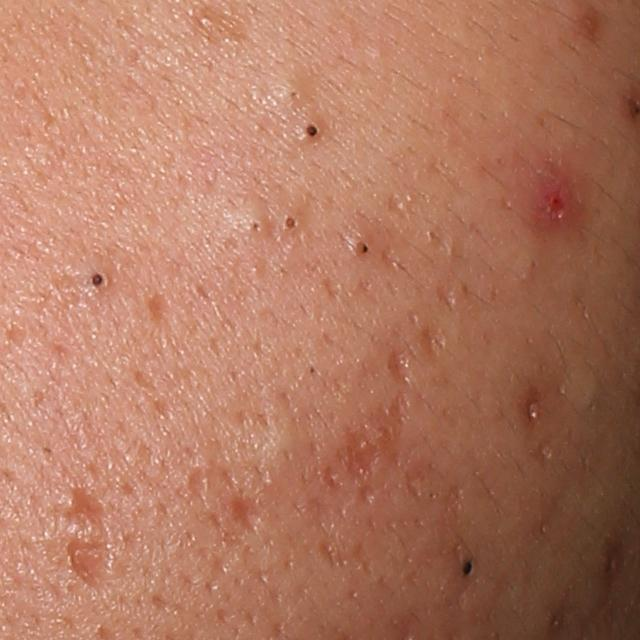atrophic_scar: (62, 483, 117, 591), (305, 494, 373, 581), (222, 384, 284, 455), (204, 514, 250, 589), (373, 389, 406, 469), (337, 421, 375, 485), (226, 490, 271, 539), (388, 341, 418, 390), (419, 319, 447, 362), (433, 277, 462, 318), (187, 467, 210, 515), (316, 465, 345, 494), (521, 385, 542, 425), (382, 240, 403, 276), (355, 483, 378, 505)
comedo: (285, 82, 306, 107), (278, 215, 306, 233)
papule: (527, 177, 575, 223)
